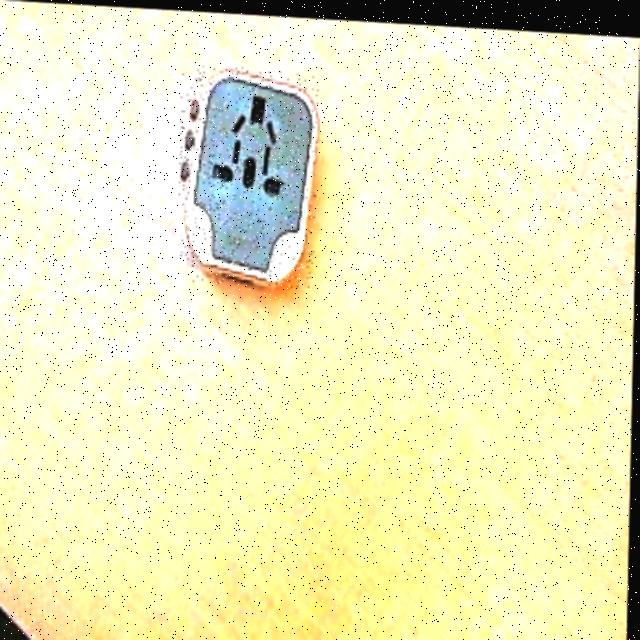adapter: (178, 61, 319, 285)
